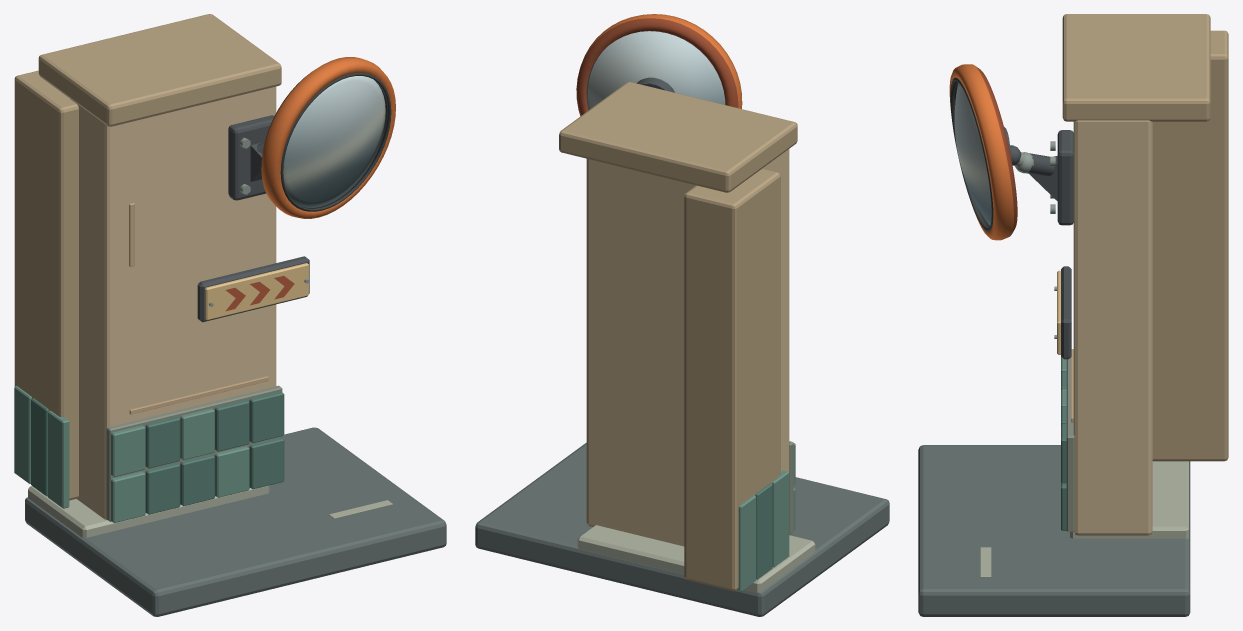
File: shophouse-lane-convex-mirror.glb
3 views of the same model, side by side, from view 1: azimuth 30°, elevation 25°; view 2: azimuth 150°, elevation 25°; view 3: azimuth 270°, elevation 25° (orthographic). The views are drawn at different scales.
Parts seen in each view (by area): view 1: Corner wall and lane apron | Oat pale limewash, Corner wall and lane apron | Weathered pale plaster, Corner wall and lane apron | Warm grey street surface, Corner wall and lane apron | Dull sea green glazed skirting, Corner wall and lane apron | Moss-green skirting variation, CONVEX_LENS_DECORATIVE_CAP, MIRROR_STATIC_MOUNT | Safety-orange fictional enamel, Corner wall and lane apron | Worn pale concrete kerb, Fictional decorative chevrons | Faded cream warning plate, Static bolted mount and articulated-looking support | Warm g, Corner wall and lane apron | Warm cement joints, MIRROR_STATIC_MOUNT | Charcoal edge gasket (+3 smaller); view 2: Corner wall and lane apron | Weathered pale plaster, Corner wall and lane apron | Oat pale limewash, Corner wall and lane apron | Warm grey street surface, CONVEX_LENS_DECORATIVE_CAP, MIRROR_STATIC_MOUNT | Safety-orange fictional enamel, Corner wall and lane apron | Worn pale concrete kerb, Corner wall and lane apron | Moss-green skirting variation, Corner wall and lane apron | Dull sea green glazed skirting; view 3: Corner wall and lane apron | Weathered pale plaster, Corner wall and lane apron | Warm grey street surface, Corner wall and lane apron | Oat pale limewash, MIRROR_STATIC_MOUNT | Safety-orange fictional enamel, Corner wall and lane apron | Worn pale concrete kerb, CONVEX_LENS_DECORATIVE_CAP, Static bolted mount and articulated-looking support | Warm g, Corner wall and lane apron | Warm cement joints, Fictional decorative chevrons | Warm galvanised paint, MIRROR_STATIC_MOUNT | Charcoal edge gasket, Corner wall and lane apron | Dull sea green glazed skirting, Static bolted mount and articulated-looking support | Satin .
Boxes of the visible parts, x1=… form: Corner wall and lane apron | Oat pale limewash: x1=70, y1=86, x2=276, y2=519; Corner wall and lane apron | Weathered pale plaster: x1=14, y1=14, x2=281, y2=500; Corner wall and lane apron | Warm grey street surface: x1=25, y1=427, x2=446, y2=616; Corner wall and lane apron | Dull sea green glazed skirting: x1=31, y1=391, x2=284, y2=514; Corner wall and lane apron | Moss-green skirting variation: x1=14, y1=386, x2=249, y2=522; CONVEX_LENS_DECORATIVE_CAP: x1=283, y1=76, x2=385, y2=206; MIRROR_STATIC_MOUNT | Safety-orange fictional enamel: x1=261, y1=57, x2=395, y2=218; Corner wall and lane apron | Worn pale concrete kerb: x1=28, y1=485, x2=392, y2=537; Fictional decorative chevrons | Faded cream warning plate: x1=205, y1=263, x2=308, y2=320; Static bolted mount and articulated-looking support | Warm g: x1=228, y1=115, x2=274, y2=200; Corner wall and lane apron | Warm cement joints: x1=106, y1=385, x2=282, y2=521; MIRROR_STATIC_MOUNT | Charcoal edge gasket: x1=280, y1=73, x2=391, y2=211; Corner wall and lane apron | Weathered pale plaster: x1=559, y1=82, x2=797, y2=591; Corner wall and lane apron | Oat pale limewash: x1=586, y1=149, x2=789, y2=546; Corner wall and lane apron | Warm grey street surface: x1=475, y1=442, x2=889, y2=616; CONVEX_LENS_DECORATIVE_CAP: x1=588, y1=31, x2=725, y2=108; MIRROR_STATIC_MOUNT | Safety-orange fictional enamel: x1=576, y1=14, x2=742, y2=116; Corner wall and lane apron | Worn pale concrete kerb: x1=577, y1=525, x2=815, y2=592; Corner wall and lane apron | Moss-green skirting variation: x1=737, y1=443, x2=795, y2=591; Corner wall and lane apron | Dull sea green glazed skirting: x1=755, y1=483, x2=772, y2=579; Corner wall and lane apron | Weathered pale plaster: x1=1062, y1=14, x2=1228, y2=461; Corner wall and lane apron | Warm grey street surface: x1=918, y1=445, x2=1190, y2=616; Corner wall and lane apron | Oat pale limewash: x1=1073, y1=120, x2=1152, y2=535; MIRROR_STATIC_MOUNT | Safety-orange fictional enamel: x1=949, y1=64, x2=1017, y2=240; Corner wall and lane apron | Worn pale concrete kerb: x1=980, y1=461, x2=1188, y2=577; CONVEX_LENS_DECORATIVE_CAP: x1=954, y1=82, x2=991, y2=225; Static bolted mount and articulated-looking support | Warm g: x1=1010, y1=130, x2=1073, y2=225; Corner wall and lane apron | Warm cement joints: x1=1066, y1=357, x2=1074, y2=531; Fictional decorative chevrons | Warm galvanised paint: x1=1061, y1=266, x2=1071, y2=359; MIRROR_STATIC_MOUNT | Charcoal edge gasket: x1=950, y1=77, x2=993, y2=231; Corner wall and lane apron | Dull sea green glazed skirting: x1=1061, y1=371, x2=1066, y2=530; Static bolted mount and articulated-looking support | Satin : x1=1014, y1=141, x2=1055, y2=213.
Size of the model in its own units: 1.12 by 1.77 by 0.992.
